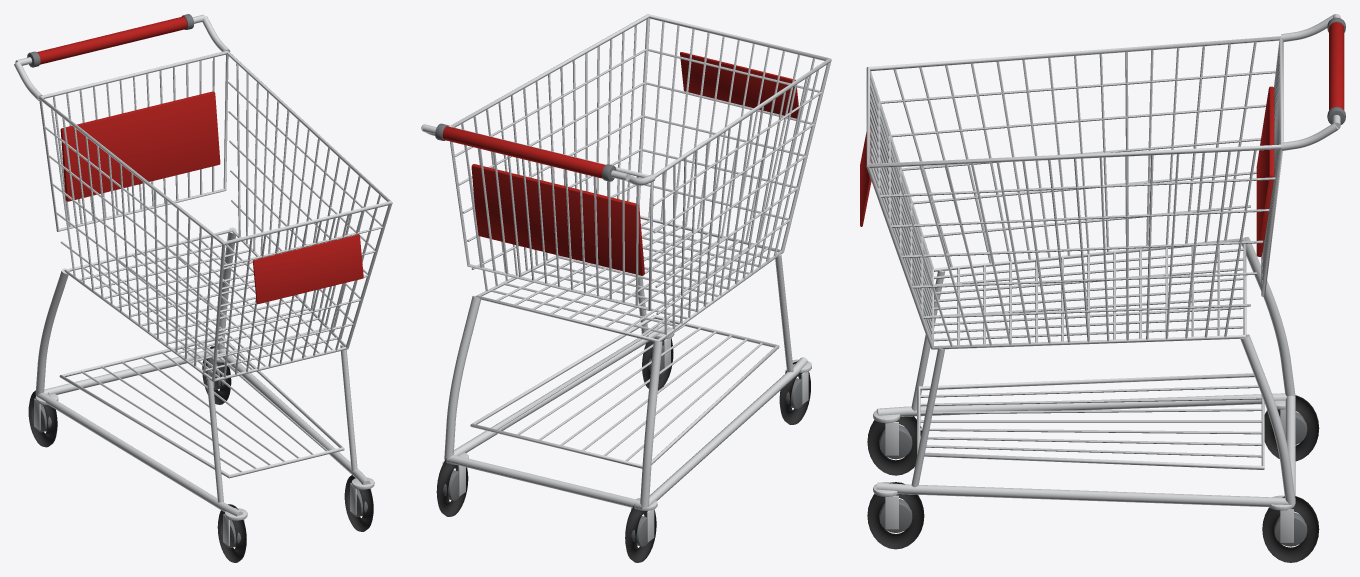
File: ShoppingCart.fbx
3 views of the same model, side by side, from view 1: azimuth 30°, elevation 25°; view 2: azimuth 150°, elevation 25°; view 3: azimuth 270°, elevation 25° (orthographic). The views are drawn at different scales.
Parts seen in each view (by area): view 1: ShoppingCart; view 2: ShoppingCart; view 3: ShoppingCart.
Part boxes in pixels (bbox=[...]): ShoppingCart: bbox=[14, 14, 392, 562]; ShoppingCart: bbox=[421, 14, 831, 562]; ShoppingCart: bbox=[860, 14, 1345, 562].
Size of the model in its own units: 0.58 by 1.08 by 1.06.
